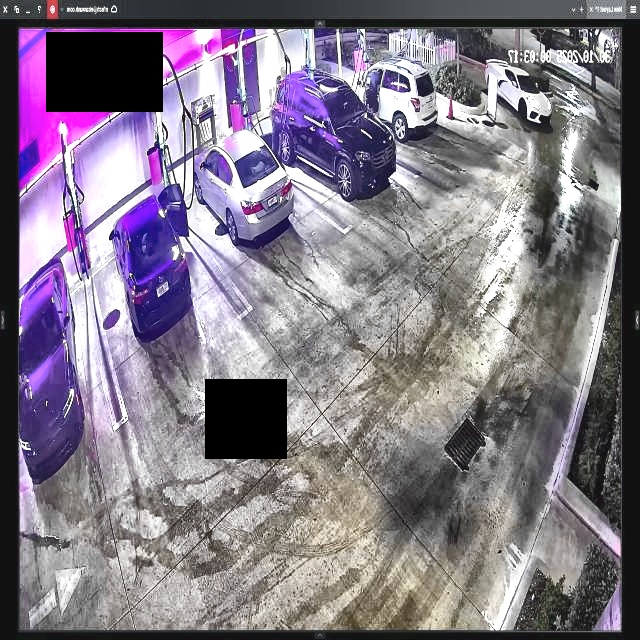Car: (274, 69, 395, 196), (107, 182, 192, 335), (193, 127, 294, 247)
